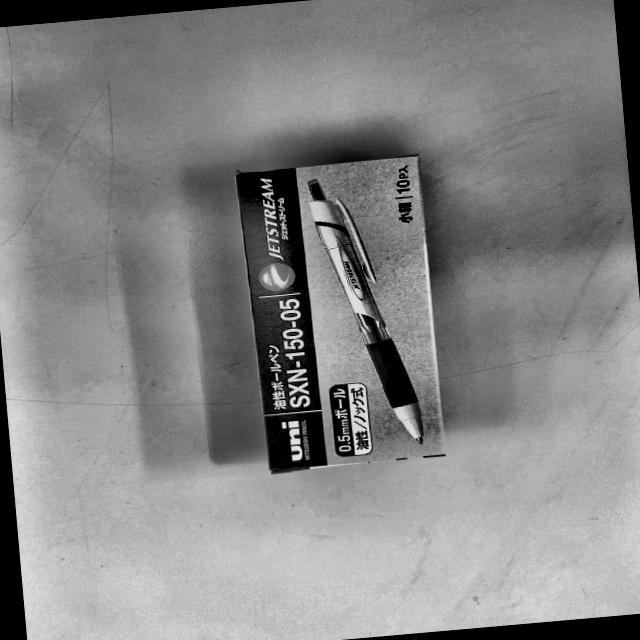Pen: (304, 168, 441, 460)
